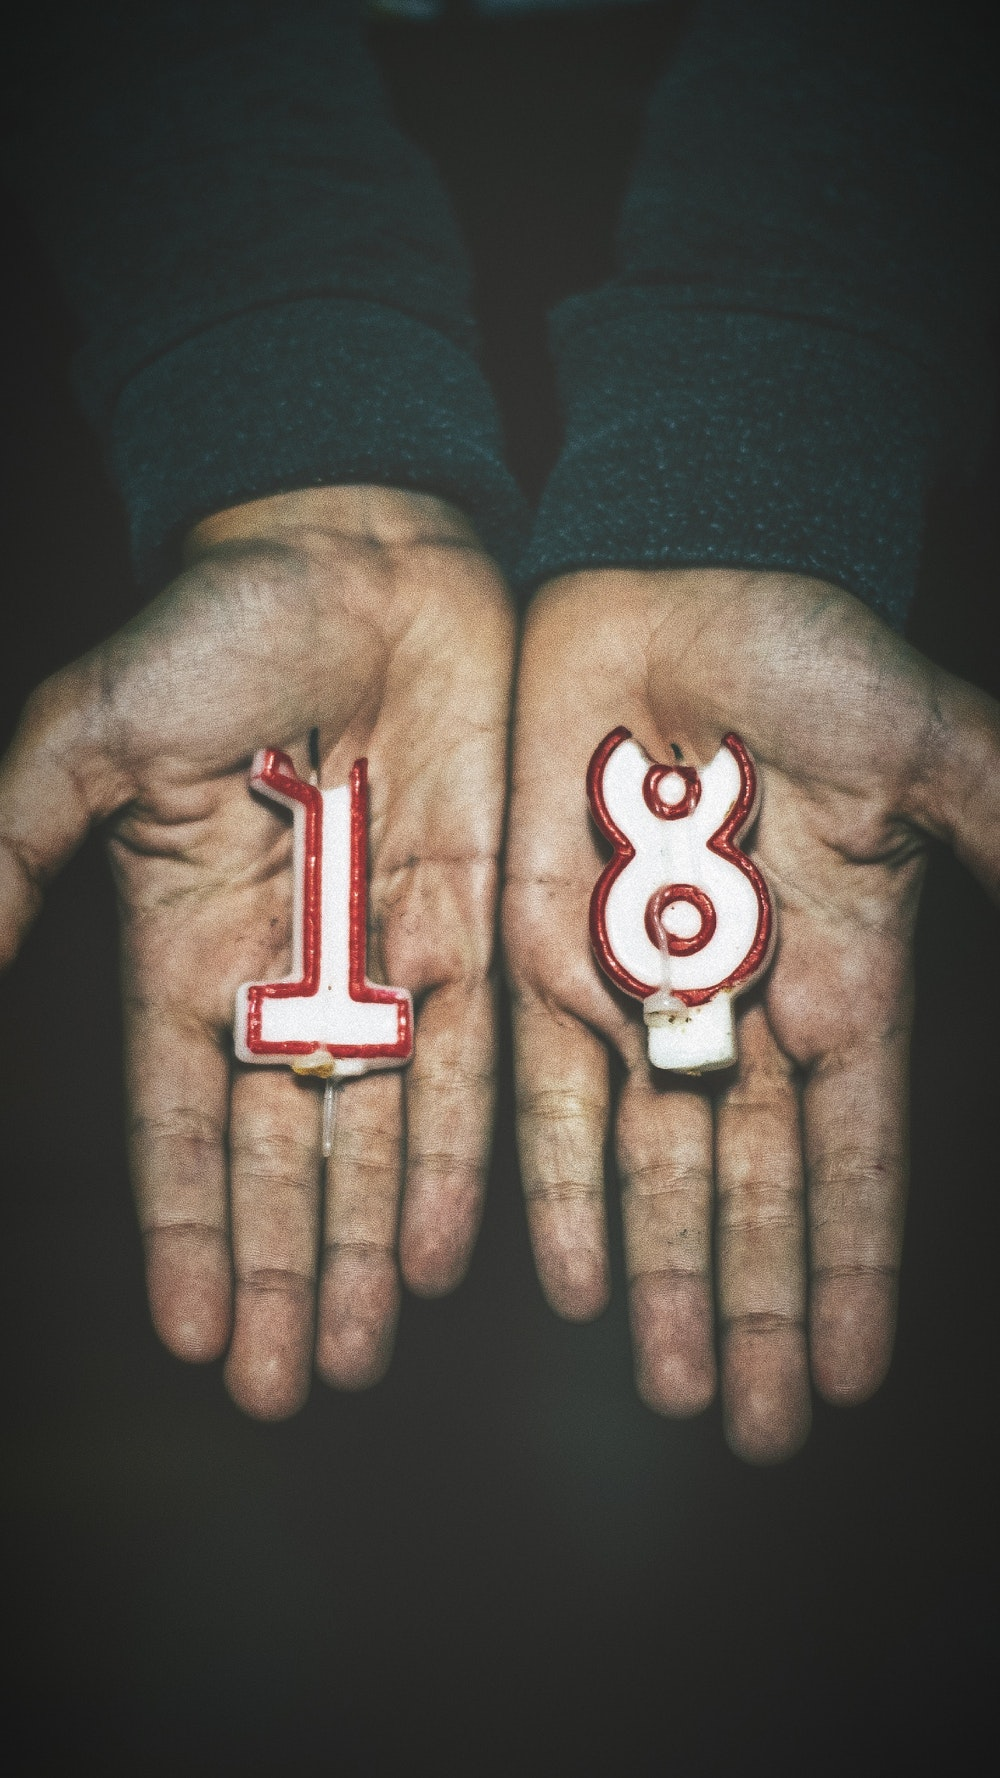palm: (527, 602, 907, 1112), (165, 589, 482, 1112)
